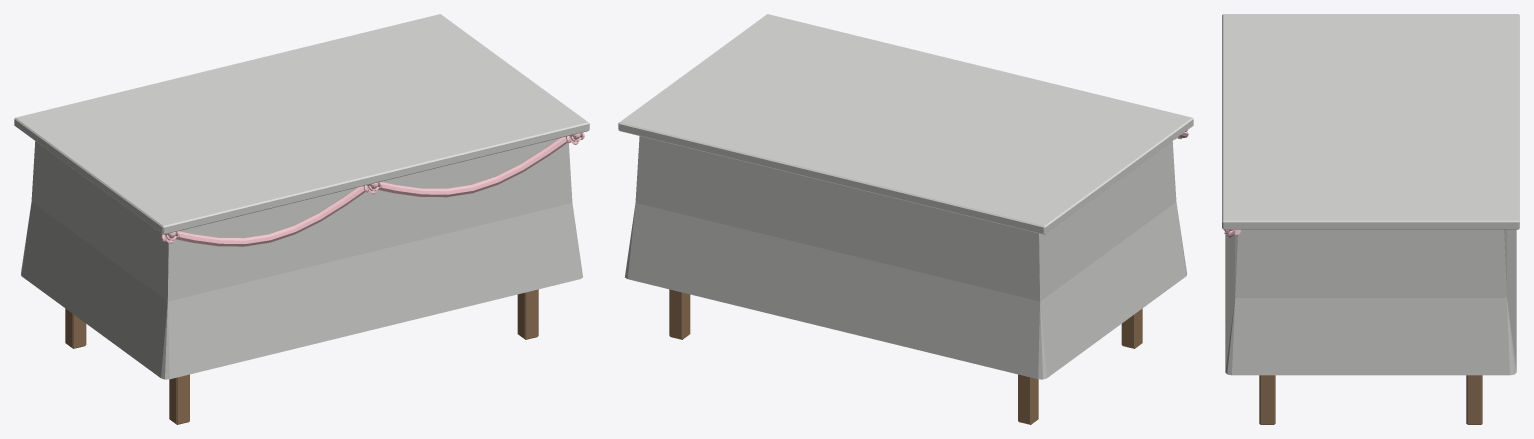
File: wedding-and-chapel-kit-gift-table-with-cloth-a49c65aa__39402.glb
3 views of the same model, side by side, from view 1: azimuth 30°, elevation 25°; view 2: azimuth 150°, elevation 25°; view 3: azimuth 270°, elevation 25° (orthographic).
Parts seen in each view (by area): view 1: gift-table-with-cloth; view 2: gift-table-with-cloth; view 3: gift-table-with-cloth.
Part boxes in pixels (x1,y1,x2,y2): gift-table-with-cloth: (14,14,589,424); gift-table-with-cloth: (618,14,1193,424); gift-table-with-cloth: (1222,14,1519,424).
Size of the model in its own units: 1.52 by 0.75 by 0.9201.
